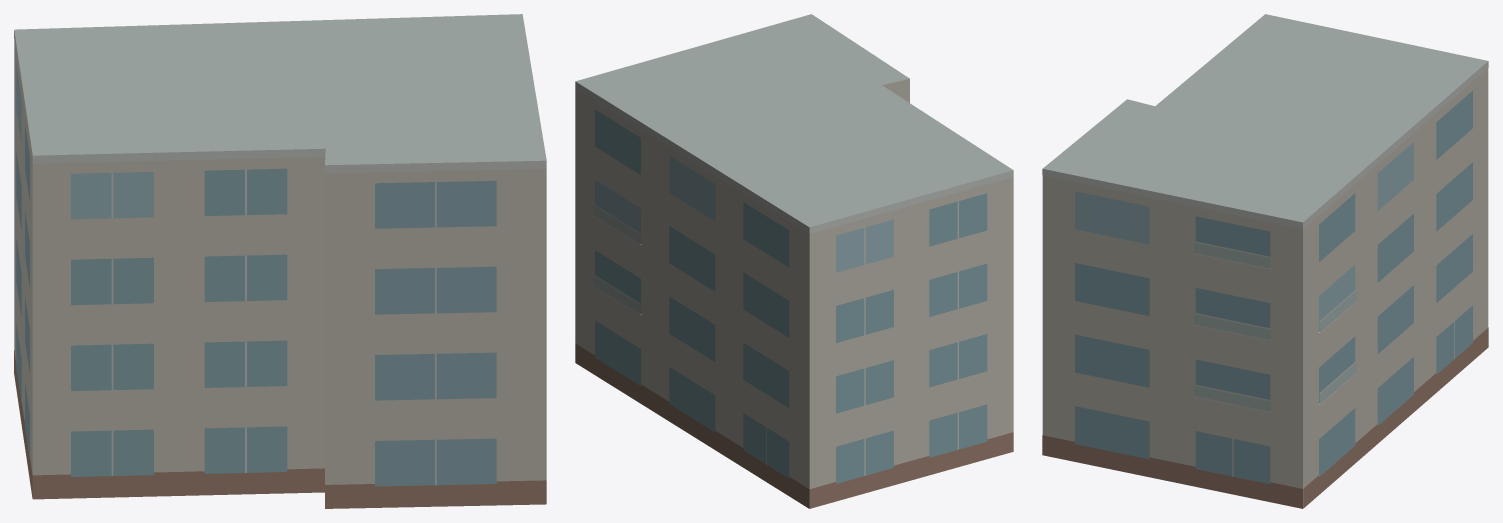
The model's file is survey-upis-33024612.glb.
3 views of the same model, side by side, from view 1: azimuth 30°, elevation 25°; view 2: azimuth 150°, elevation 25°; view 3: azimuth 270°, elevation 25° (orthographic). The views are drawn at different scales.
Parts seen in each view (by area): view 1: survey-upis-33024612.tmp; view 2: survey-upis-33024612.tmp; view 3: survey-upis-33024612.tmp.
Part boxes in pixels (<box>): survey-upis-33024612.tmp: <box>14,14,546,508</box>; survey-upis-33024612.tmp: <box>575,14,1013,508</box>; survey-upis-33024612.tmp: <box>1042,14,1488,508</box>.
Size of the model in its own units: 16.16 by 10.35 by 14.61.
